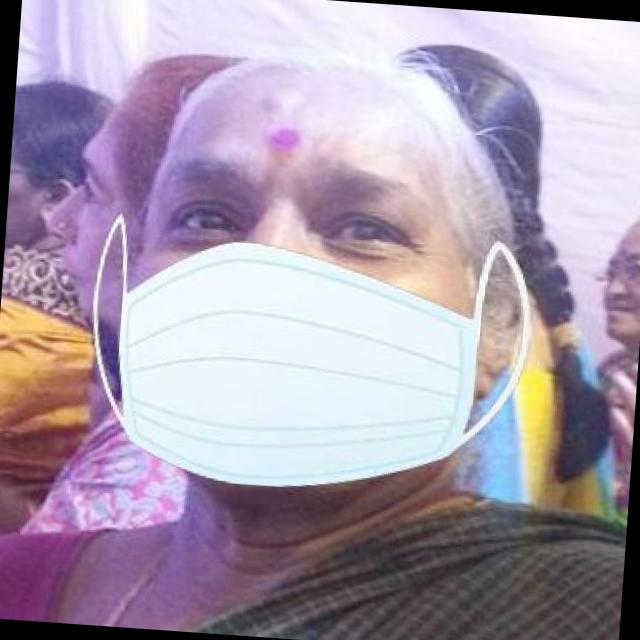glasses: (589, 251, 640, 293)
